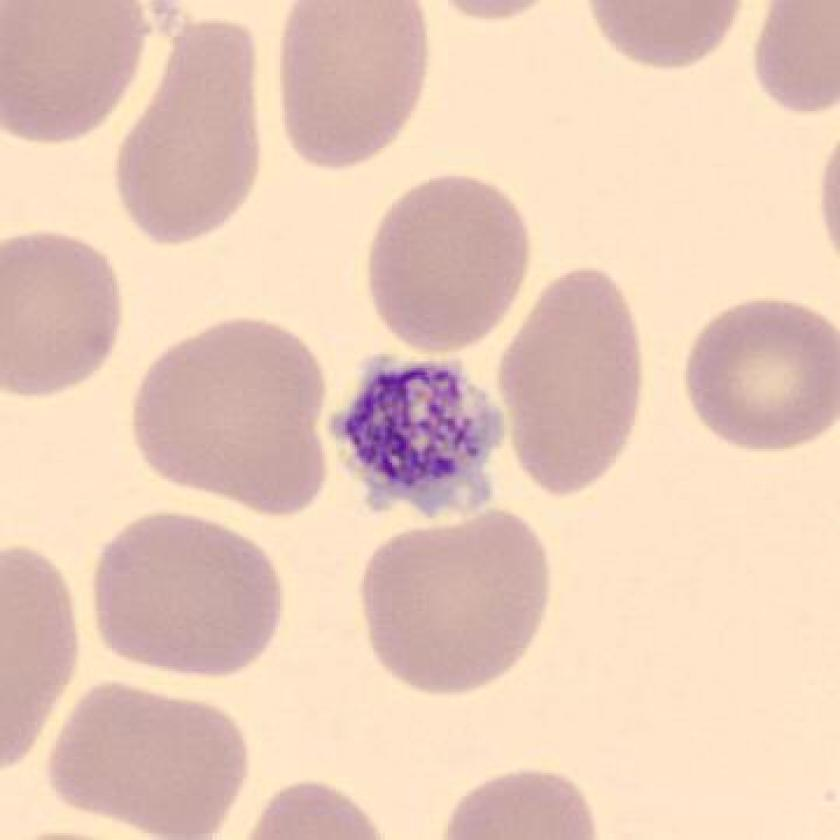platelets: (316, 348, 512, 522)
